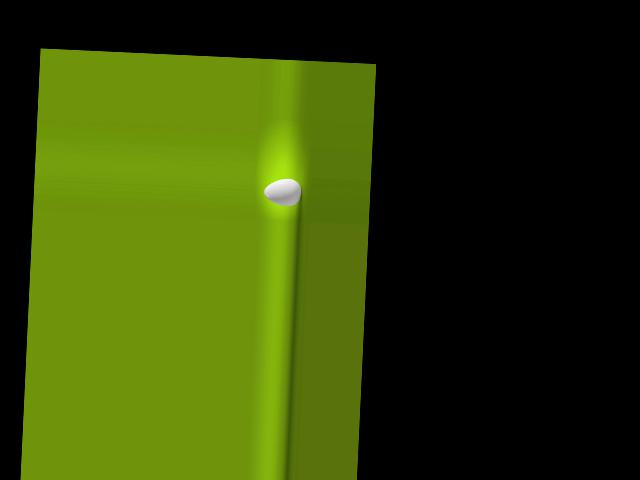egg: (263, 178, 302, 206)
